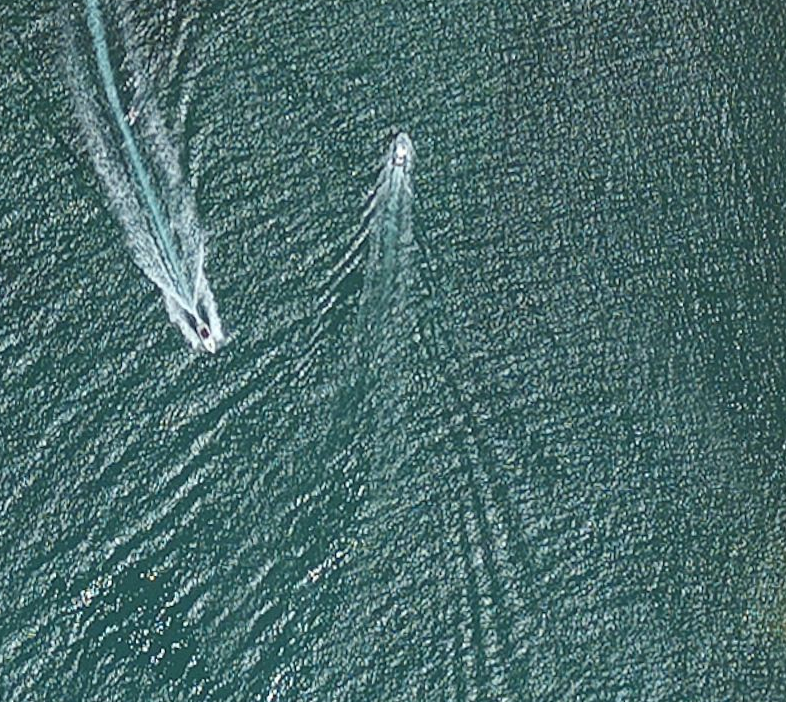ship: (178, 301, 225, 357), (390, 127, 416, 175)
